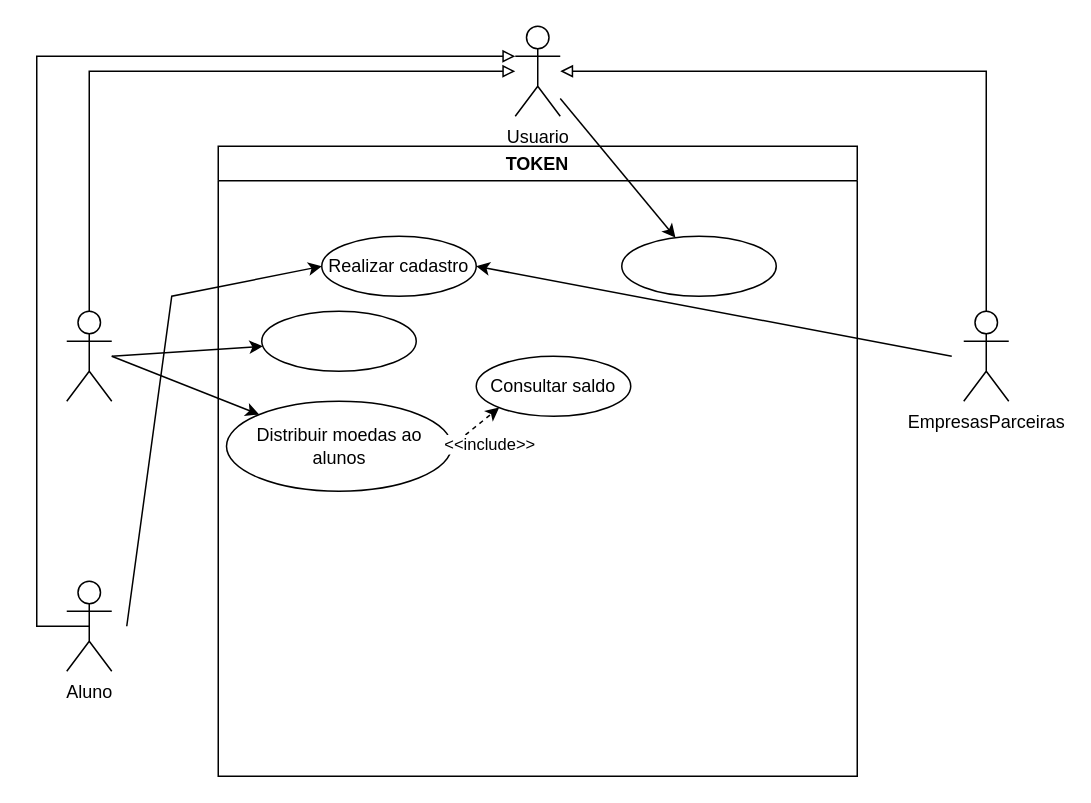
Image size: 1091x803. Some labels were removed from this diagram. Here are the shapes that lost their labels. From the top down, the centre of each, then its label:
(x=698, y=265): Realizar login
(x=88, y=355): Professor
(x=338, y=340): Receber moedas
